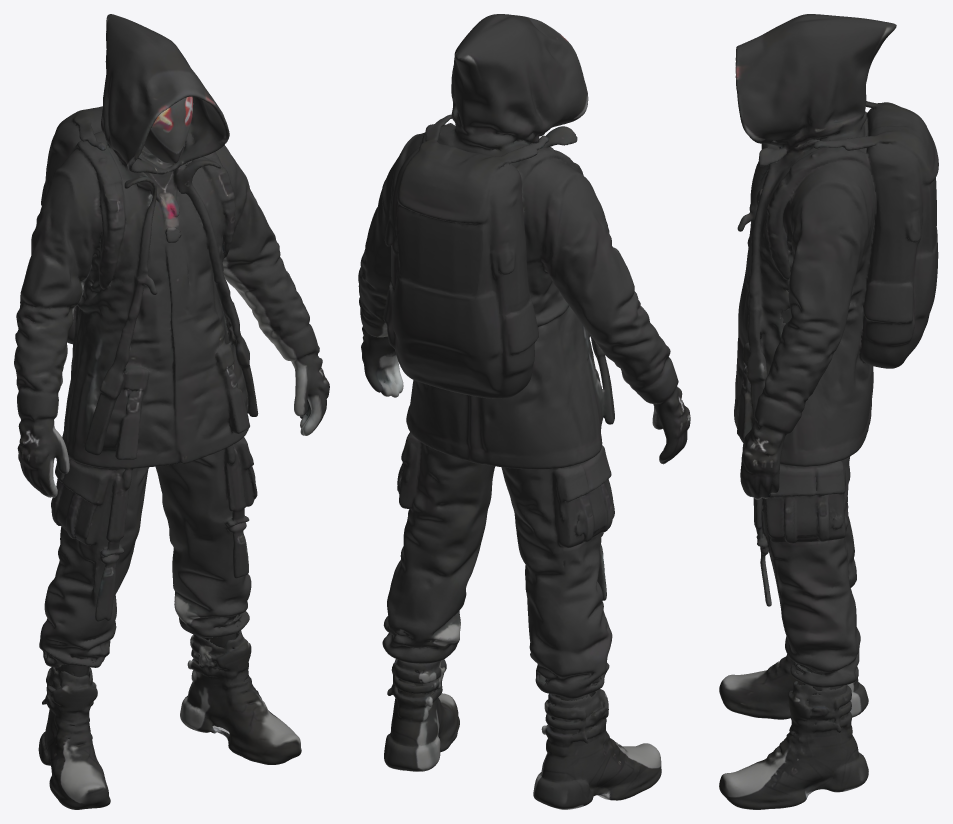
3 renders of one model, left to right at view 1: azimuth 30°, elevation 25°; view 2: azimuth 150°, elevation 25°; view 3: azimuth 270°, elevation 25°, orthographic. The views are drawn at different scales.
Parts seen in each view (by area): view 1: tripo_node_d85fa887-6ee1-48fe-85d2-1b7b5fc2f6a8; view 2: tripo_node_d85fa887-6ee1-48fe-85d2-1b7b5fc2f6a8; view 3: tripo_node_d85fa887-6ee1-48fe-85d2-1b7b5fc2f6a8.
Part boxes in pixels (bbox=[...]): tripo_node_d85fa887-6ee1-48fe-85d2-1b7b5fc2f6a8: bbox=[14, 14, 329, 809]; tripo_node_d85fa887-6ee1-48fe-85d2-1b7b5fc2f6a8: bbox=[358, 14, 690, 809]; tripo_node_d85fa887-6ee1-48fe-85d2-1b7b5fc2f6a8: bbox=[719, 14, 938, 809].
Size of the model in its own units: 0.441 by 1 by 0.2701.
1 material, 1 textured.
